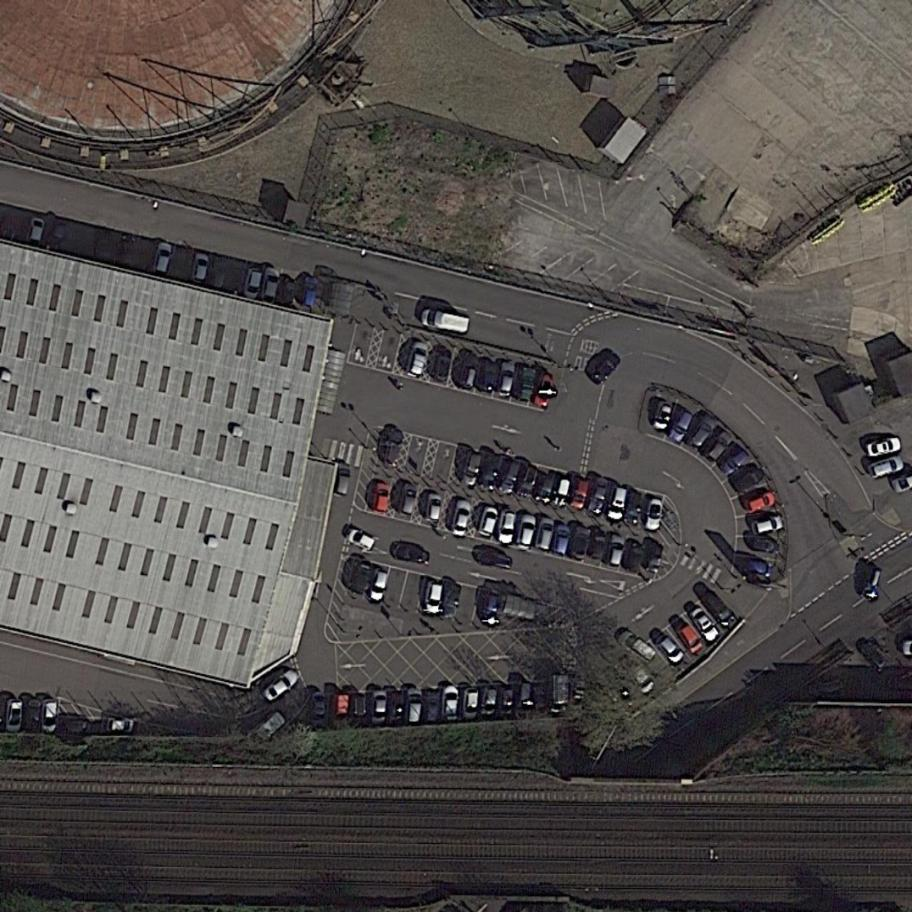large-vehicle: (548, 673, 570, 716)
small-vehicle: (697, 587, 742, 633), (617, 650, 659, 698), (258, 664, 303, 706), (614, 626, 659, 666), (685, 602, 723, 647), (418, 306, 472, 337), (683, 410, 721, 454), (650, 629, 688, 668), (700, 426, 737, 466), (587, 349, 624, 388), (730, 464, 770, 500), (670, 617, 705, 658), (715, 443, 753, 480), (492, 455, 523, 498), (799, 678, 846, 706), (856, 637, 891, 674), (665, 407, 697, 447), (403, 339, 433, 380), (42, 216, 73, 255), (475, 452, 503, 495), (865, 454, 907, 482), (604, 482, 631, 525), (513, 462, 542, 502), (513, 511, 540, 553), (347, 558, 375, 598), (859, 564, 887, 604), (380, 427, 406, 470), (585, 476, 612, 517), (862, 434, 903, 461), (390, 540, 432, 566), (438, 581, 464, 623), (533, 467, 560, 507), (532, 514, 559, 554), (530, 369, 556, 410), (460, 449, 486, 490), (740, 489, 778, 517), (602, 531, 629, 570), (258, 265, 283, 307), (366, 567, 392, 607), (493, 359, 518, 400), (568, 524, 594, 563), (473, 548, 515, 572), (648, 397, 676, 433), (477, 587, 502, 627), (449, 499, 474, 539), (567, 475, 593, 513), (150, 241, 176, 279), (620, 490, 645, 529), (513, 365, 538, 404), (550, 473, 576, 510), (748, 513, 785, 539), (224, 256, 248, 296), (458, 353, 482, 393), (344, 525, 378, 553), (420, 579, 445, 617), (187, 250, 212, 288), (439, 683, 461, 726), (475, 504, 501, 540), (549, 522, 575, 558), (242, 265, 267, 302), (368, 480, 393, 517), (395, 481, 420, 518), (620, 538, 645, 575), (403, 686, 425, 728), (735, 557, 775, 580), (431, 346, 455, 384), (495, 508, 517, 548), (641, 540, 666, 575), (643, 495, 666, 533), (476, 356, 499, 394), (368, 688, 389, 729), (308, 689, 328, 732), (331, 462, 354, 499), (514, 681, 535, 721), (3, 697, 25, 735), (22, 697, 44, 735), (93, 224, 113, 265), (586, 528, 609, 563), (743, 535, 781, 556), (208, 255, 230, 291), (115, 233, 137, 269), (479, 684, 500, 721), (299, 274, 321, 309), (329, 692, 349, 730), (461, 686, 481, 724), (422, 689, 442, 726), (25, 216, 48, 248), (386, 690, 405, 728), (530, 682, 550, 717), (41, 698, 59, 736), (57, 718, 95, 736), (102, 717, 137, 736), (311, 689, 327, 730), (424, 492, 443, 524), (280, 277, 299, 308), (498, 686, 515, 720), (352, 694, 368, 729)
